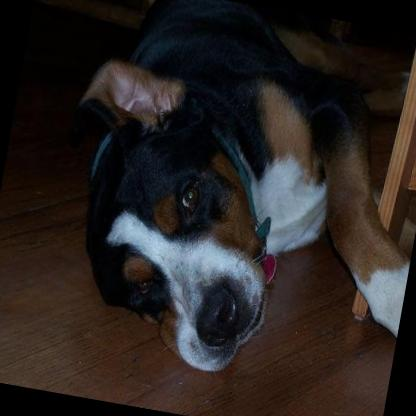Greater_Swiss_Mountain_dog: (32, 0, 416, 405)
